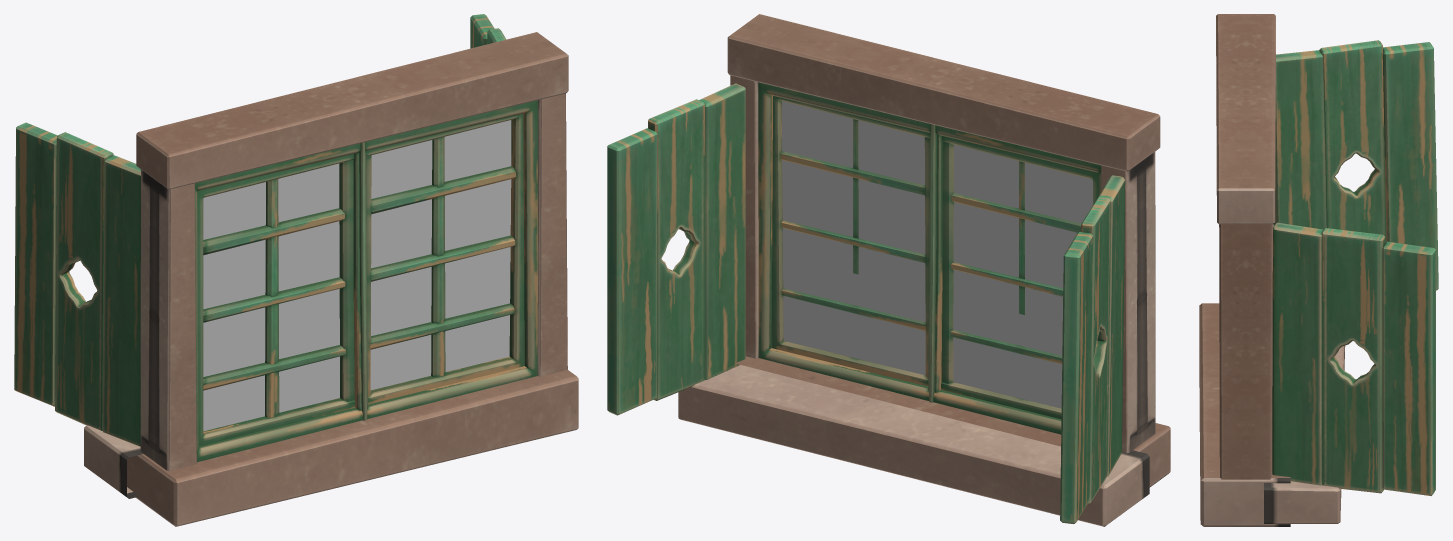
The model's file is SM_Windows_02.fbx.
The picture shows the model from 3 angles, left to right: view 1: azimuth 30°, elevation 25°; view 2: azimuth 150°, elevation 25°; view 3: azimuth 270°, elevation 25°; orthographic projection. The views are drawn at different scales.
Parts seen in each view (by area): view 1: SM_Windows_02_LOD0; view 2: SM_Windows_02_LOD0; view 3: SM_Windows_02_LOD0.
Part boxes in pixels (x1=…): SM_Windows_02_LOD0: x1=14, y1=14, x2=578, y2=526; SM_Windows_02_LOD0: x1=607, y1=14, x2=1170, y2=526; SM_Windows_02_LOD0: x1=1199, y1=14, x2=1438, y2=526.
Bounding box in the file's own units: 141 × 68.05 × 106.
2 materials, 1 textured.
